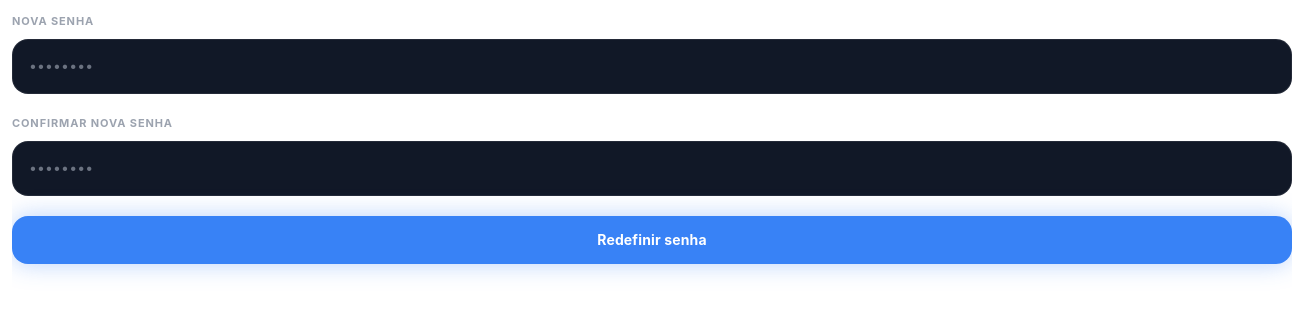
<ResetPasswordForm /> › valida senhas que não coincidem
Type "12345678" into the password field with placeholder "••••••••" at {"x": 652, "y": 66}, box [29,52,1275,81]
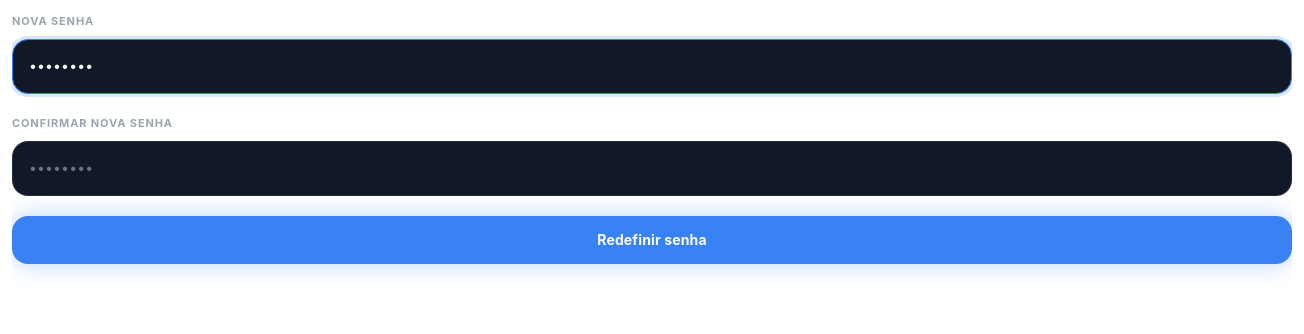
Type "87654321" into the password field with placeholder "••••••••" at {"x": 652, "y": 168}, box [29,154,1275,183]
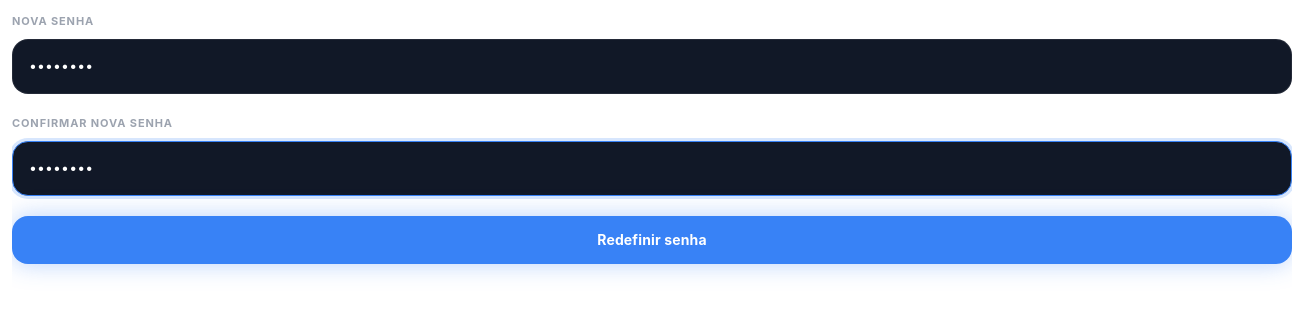
Click the button "Redefinir senha" at {"x": 652, "y": 240}, box [12,216,1292,264]
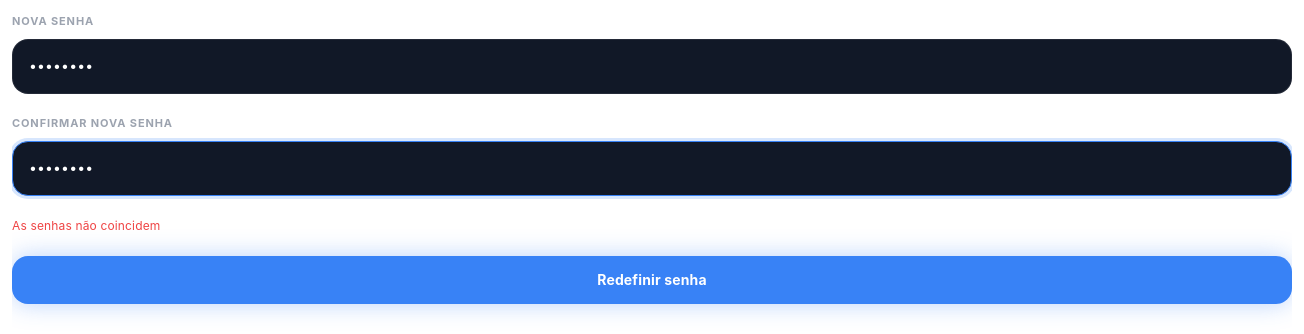
Now the text "As senhas não coincidem" is shown, box [12,218,160,233]
